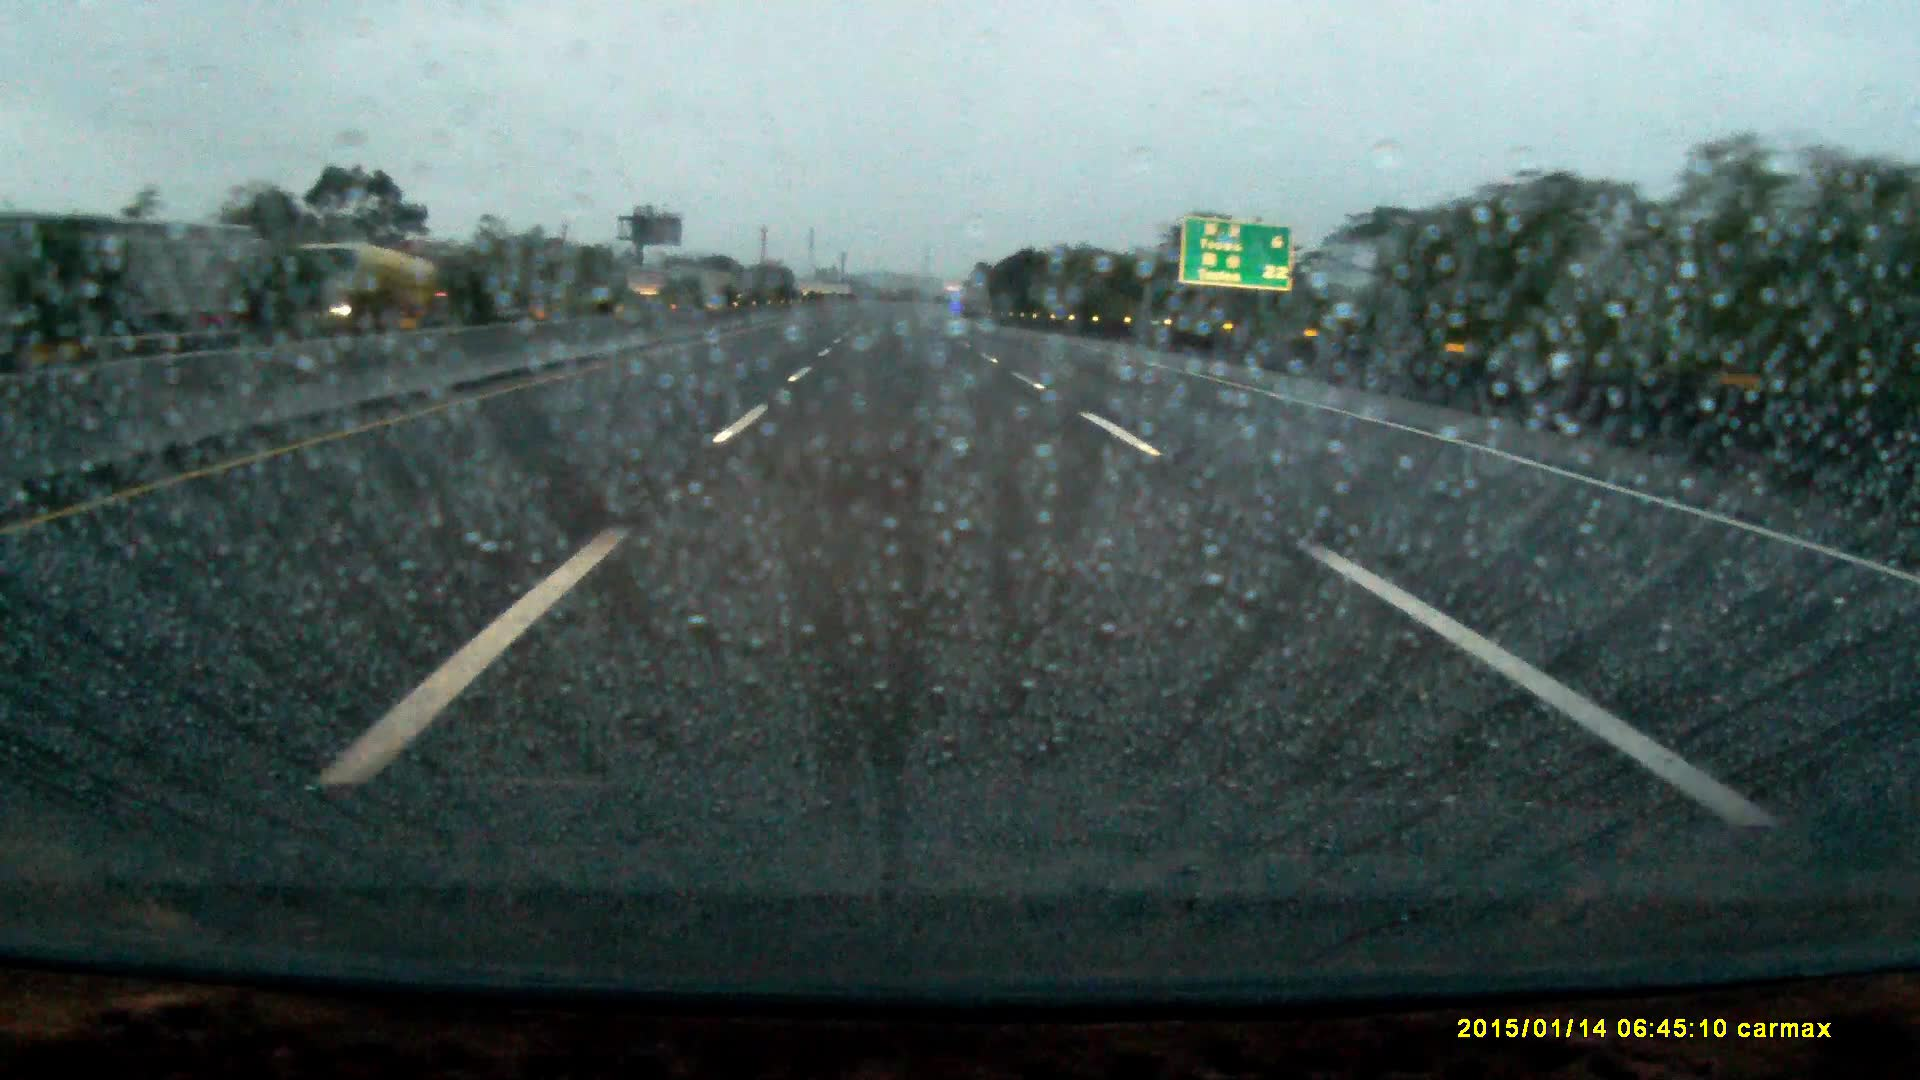vehicle: (255, 245, 438, 328), (272, 290, 390, 330)
